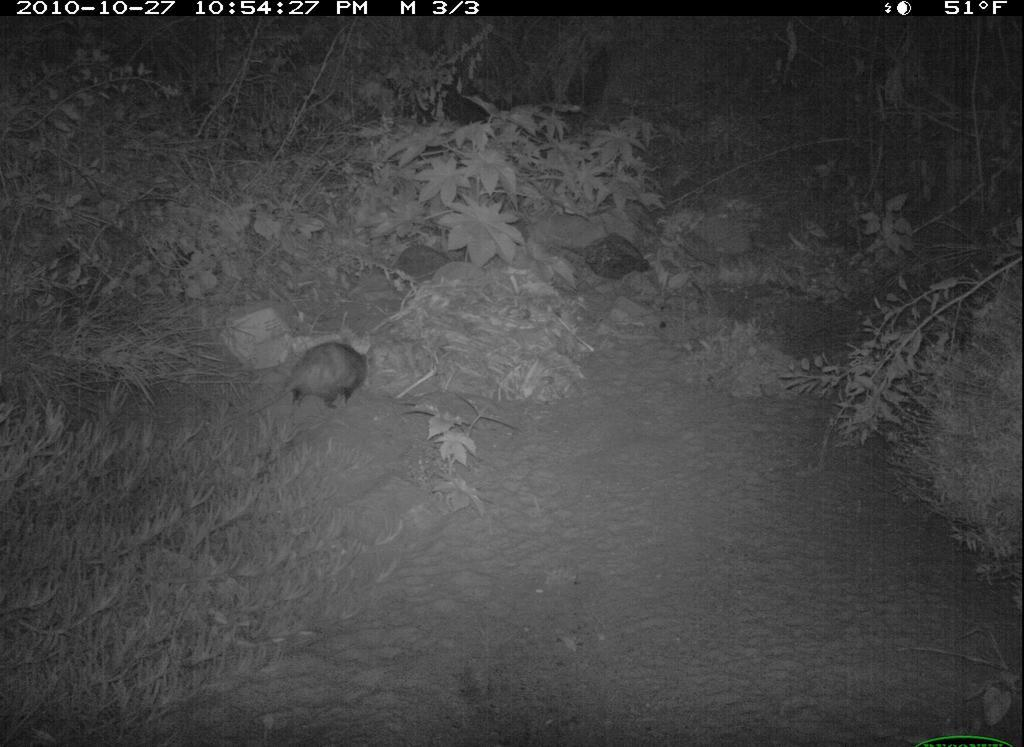opossum: (222, 343, 369, 429)
